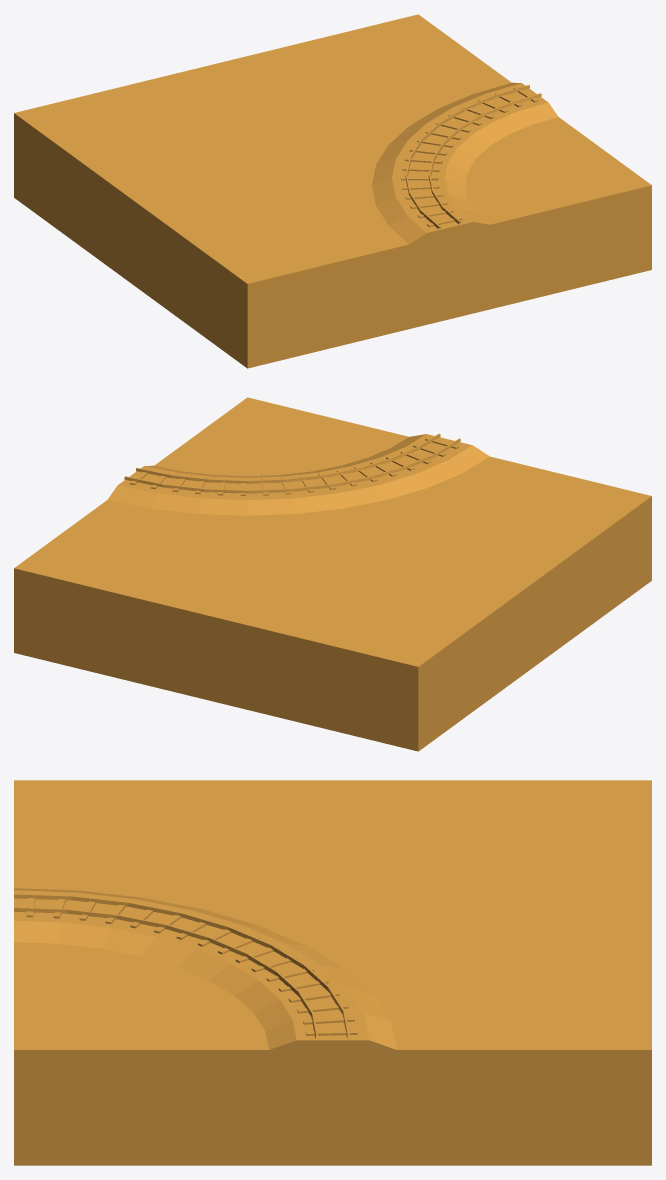
The model's file is tile-rail-curve.glb.
The picture shows the model from 3 angles, top to bottom: view 1: azimuth 30°, elevation 25°; view 2: azimuth 150°, elevation 25°; view 3: azimuth 270°, elevation 25°; orthographic projection. The views are drawn at different scales.
Parts seen in each view (by area): view 1: tile-rail-curve; view 2: tile-rail-curve; view 3: tile-rail-curve.
Part boxes in pixels (bbox=[...]): tile-rail-curve: bbox=[14, 14, 651, 368]; tile-rail-curve: bbox=[14, 397, 651, 751]; tile-rail-curve: bbox=[14, 780, 651, 1165].
Bounding box in the file's own units: 30.01 × 6.75 × 30.
